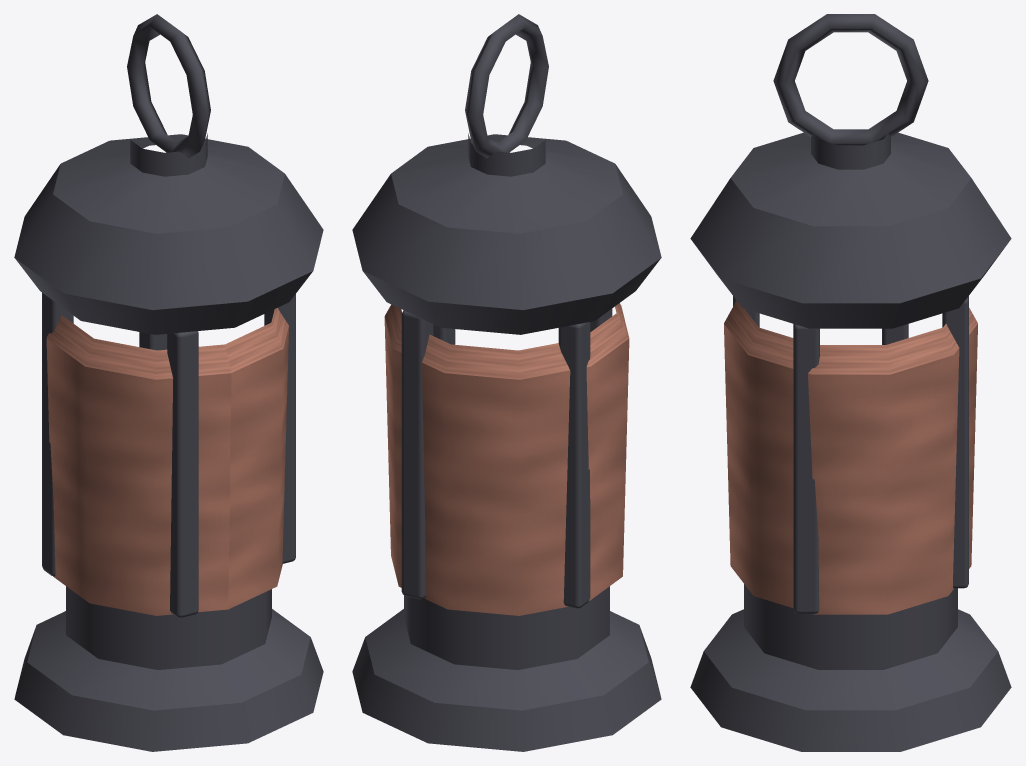
The model's file is jungle-temple-and-stone-city-camp-lantern-5d84cd31__36146.glb.
3 renders of one model, left to right at view 1: azimuth 30°, elevation 25°; view 2: azimuth 150°, elevation 25°; view 3: azimuth 270°, elevation 25°, orthographic.
Visible parts, largest first — view 1: camp-lantern; view 2: camp-lantern; view 3: camp-lantern.
Boxes of the visible parts, <box> form: camp-lantern: <box>14,14,323,751</box>; camp-lantern: <box>352,14,661,751</box>; camp-lantern: <box>690,14,1011,751</box>.
Bounding box in the file's own units: 0.2283 × 0.5552 × 0.24.
Materials: 2 (1 with a texture image).
